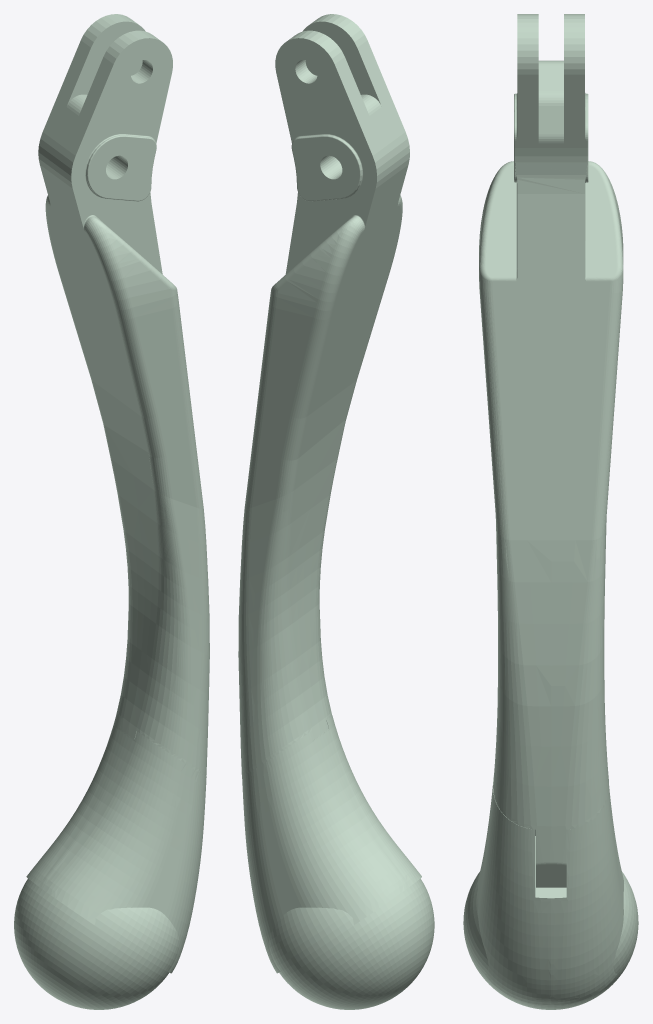
File: calf.dae
3 views of the same model, side by side, from view 1: azimuth 30°, elevation 25°; view 2: azimuth 150°, elevation 25°; view 3: azimuth 270°, elevation 25° (orthographic). The views are drawn at different scales.
Parts seen in each view (by area): view 1: Calf; view 2: Calf; view 3: Calf.
Part boxes in pixels (x1,y1,x2,y2): Calf: (14, 14, 209, 1009); Calf: (238, 14, 434, 1009); Calf: (463, 14, 638, 1009).
Size of the model in its own units: 0.046 by 0.04 by 0.2514.
